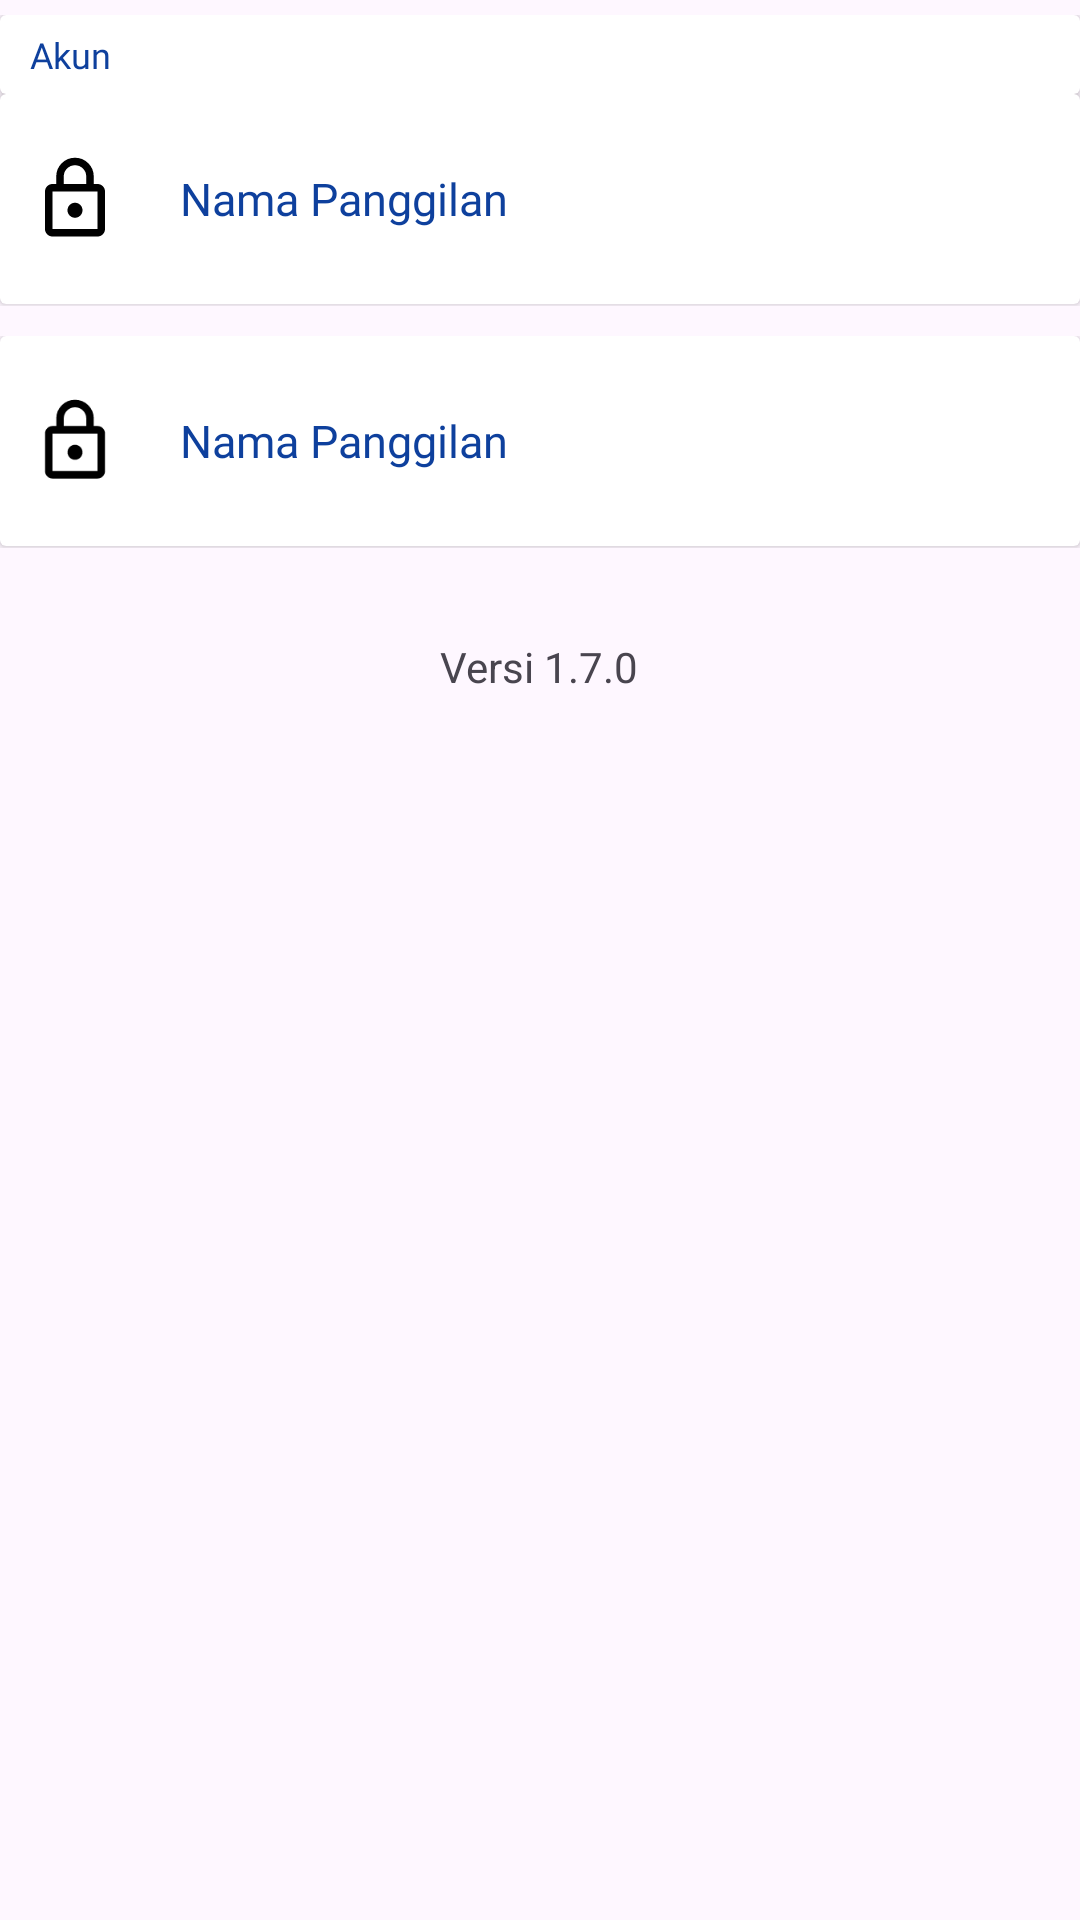

Screen size 1080px x 1920px. Icon name, then its center in pixels as point (x, y):
lock: point (75, 197), point (75, 439)
